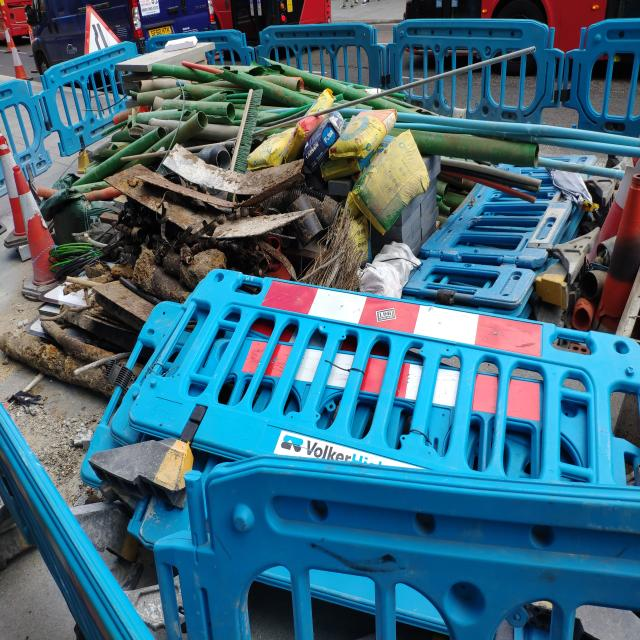entulho: (115, 156, 310, 268), (110, 31, 353, 109), (537, 167, 639, 335), (77, 115, 209, 231), (24, 275, 168, 364), (343, 119, 443, 235), (162, 66, 313, 138), (424, 162, 556, 204), (363, 240, 419, 305)
